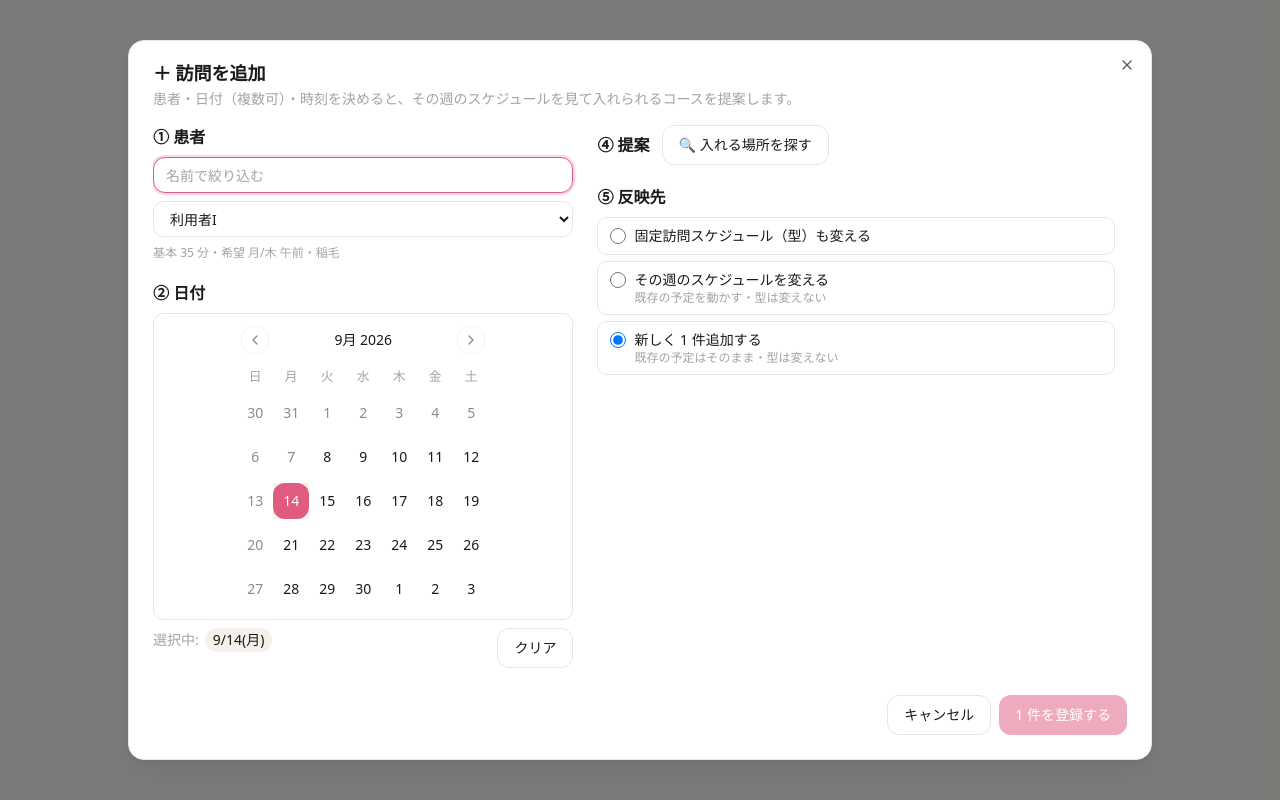
Test case: AddVisitAnywhereDialog › H4 定員超の候補は既定選択にしない (選ぶことはできる)
This screenshot has width=1280, height=800.
What coordinates should you click on to do the following:
click the button with test id "ava-propose"
I would click on:
 (745, 145)
Its box is [662, 125, 829, 165].
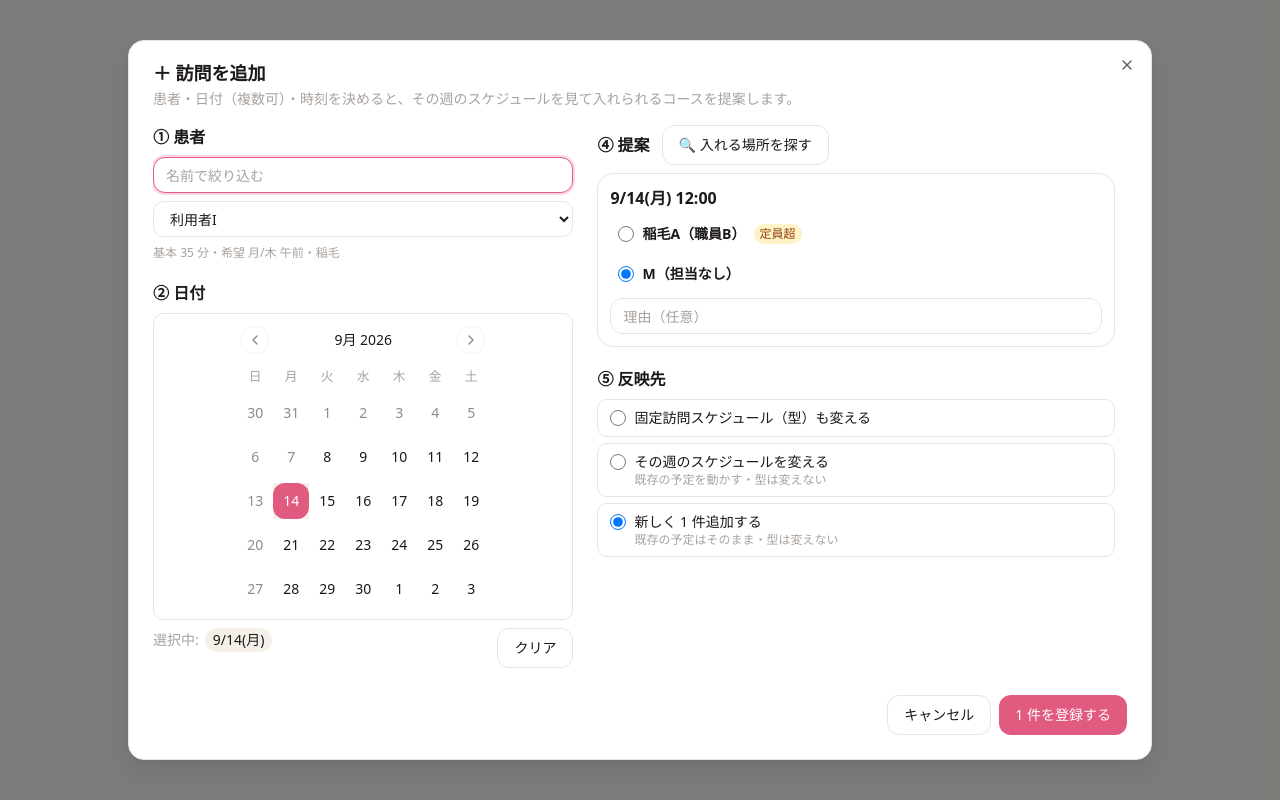
expect the element with test id "ava-row-2026-09-14" shows "定員超": met, box [760, 225, 796, 242]
expect the radio button with test id "ava-cand-2026-09-14-__M__" is checked: met, box [618, 266, 634, 282]
expect the radio button with test id "ava-cand-2026-09-14-p0" is not checked: met, box [618, 226, 634, 242]
